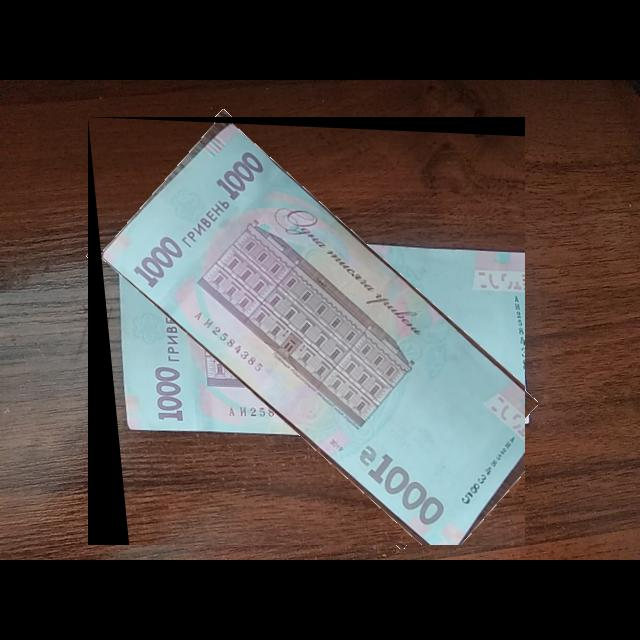1000uah: (98, 122, 526, 546)
